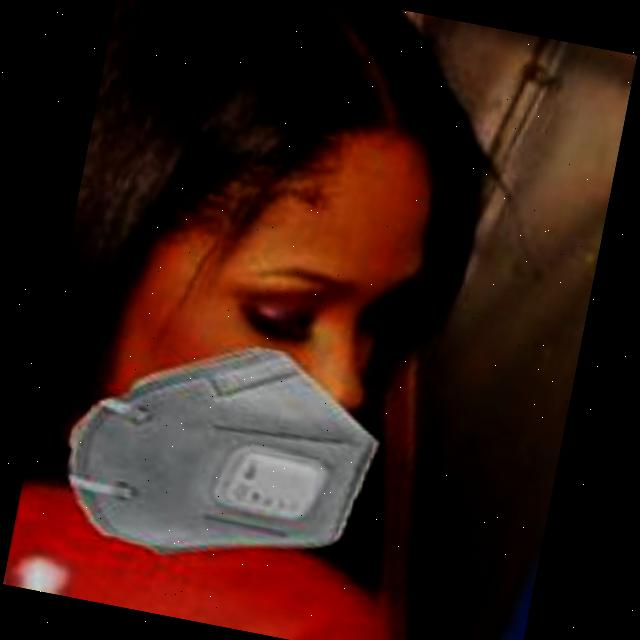suspicion: (44, 51, 530, 605)
